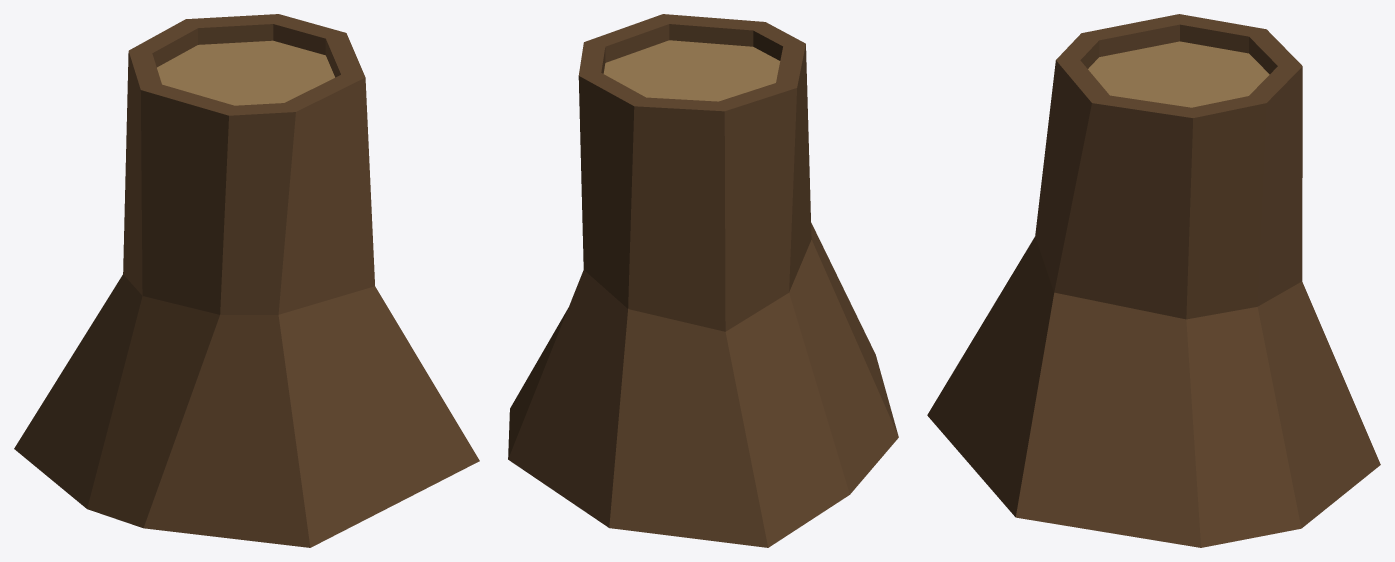
File: AkarPohon1.fbx
The picture shows the model from 3 angles, left to right: view 1: azimuth 30°, elevation 25°; view 2: azimuth 150°, elevation 25°; view 3: azimuth 270°, elevation 25°; orthographic projection. The views are drawn at different scales.
Visible parts, largest first — view 1: stump_1a; view 2: stump_1a; view 3: stump_1a.
Boxes of the visible parts, x1,y1,x2,y2 form: stump_1a: (14,14,479,547); stump_1a: (508,14,898,547); stump_1a: (927,14,1380,547).
Size of the model in its own units: 84.77 by 98.37 by 97.71.
